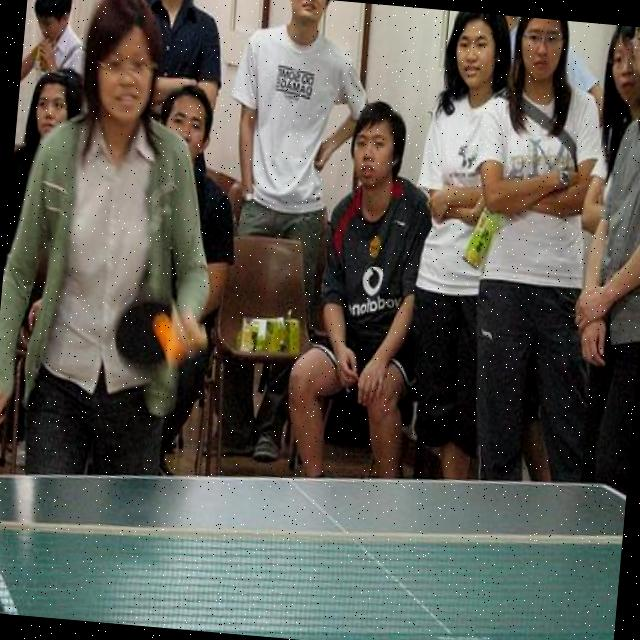ping-pong-ball: (150, 312, 188, 364)
